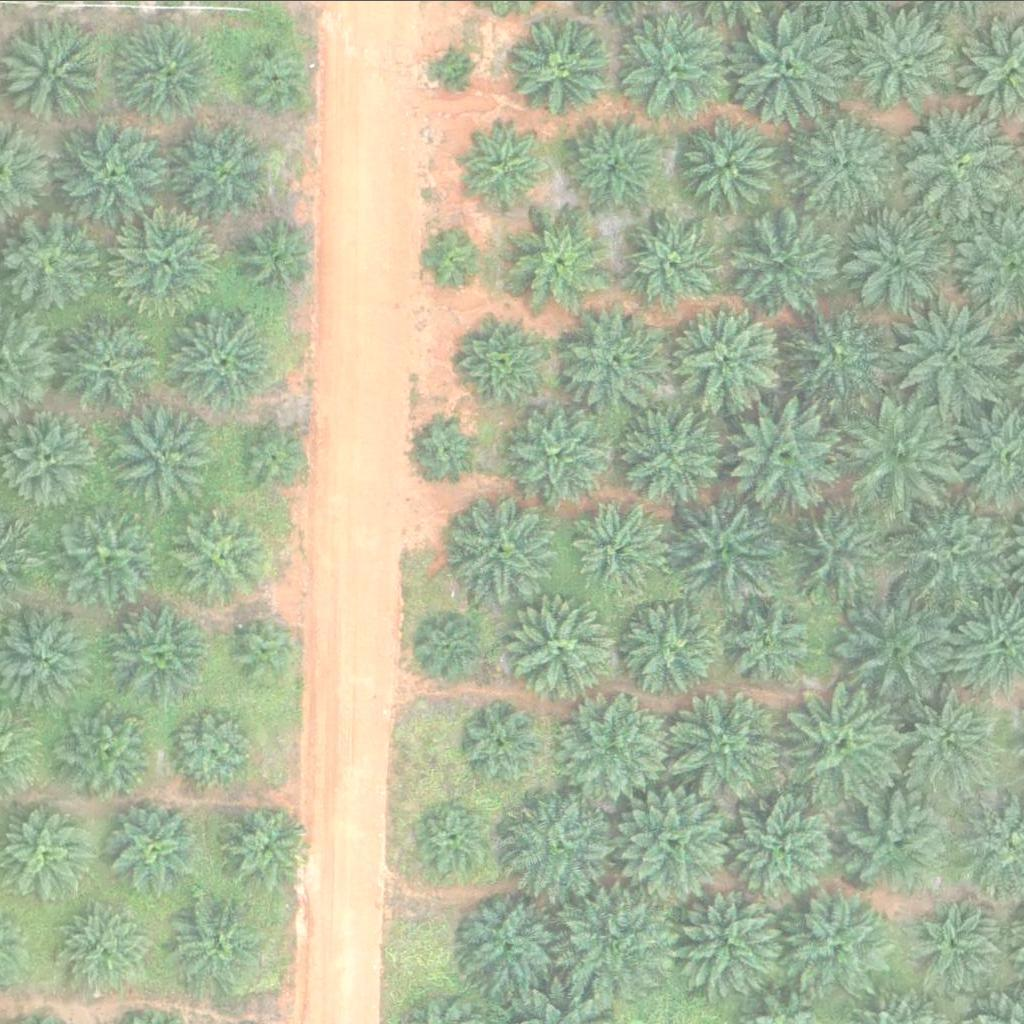Kelapa_Sawit: (558, 875, 684, 1000), (723, 781, 849, 906), (665, 680, 791, 805), (780, 681, 906, 806), (836, 585, 962, 710), (656, 489, 782, 614), (775, 490, 901, 615), (891, 490, 1017, 615), (725, 389, 851, 514), (843, 391, 969, 516), (891, 294, 1017, 419), (729, 6, 855, 131), (668, 293, 793, 418), (676, 881, 790, 994), (55, 115, 168, 228), (781, 883, 894, 996), (899, 890, 1012, 1003), (847, 789, 960, 902), (558, 689, 671, 802), (614, 787, 728, 899), (893, 682, 1007, 794), (116, 203, 229, 315), (499, 792, 612, 904), (612, 10, 725, 122), (848, 7, 961, 119), (173, 121, 274, 221), (64, 312, 165, 412), (171, 308, 272, 408), (109, 405, 210, 505), (58, 504, 159, 604), (170, 504, 271, 604), (112, 603, 213, 703), (56, 698, 157, 798), (508, 597, 609, 697), (623, 598, 724, 698), (449, 495, 550, 595), (570, 501, 671, 601), (506, 404, 607, 504), (618, 404, 719, 504), (563, 309, 664, 409), (790, 301, 891, 401), (510, 207, 611, 307), (625, 212, 726, 312), (739, 211, 840, 311), (843, 207, 944, 307), (562, 115, 663, 215), (678, 113, 779, 213), (794, 116, 895, 216), (1, 23, 101, 123), (115, 18, 215, 118), (4, 211, 104, 311), (214, 797, 314, 897), (164, 891, 264, 991), (462, 896, 562, 996), (719, 591, 819, 691), (507, 15, 607, 115), (170, 704, 258, 792), (462, 122, 550, 210), (110, 800, 198, 887), (53, 904, 141, 991), (459, 311, 547, 398), (420, 800, 496, 875), (237, 37, 313, 112), (229, 611, 305, 686), (464, 703, 539, 778), (243, 219, 318, 294), (237, 415, 312, 490), (418, 614, 481, 677), (416, 415, 479, 477), (417, 229, 480, 291), (437, 47, 475, 84)
